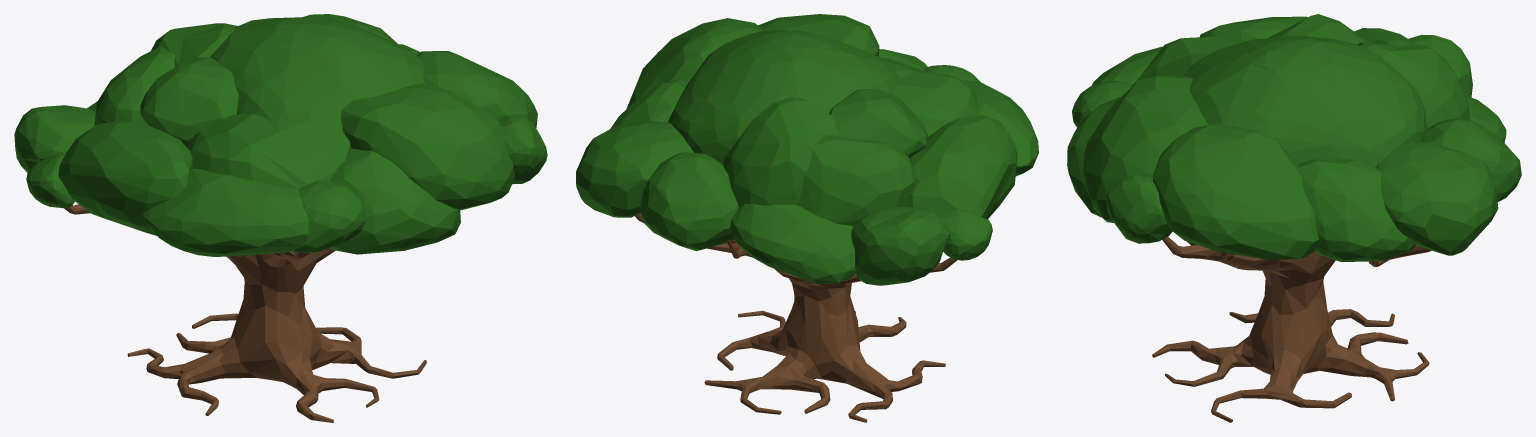
Rendered from WorldTree.fbx.
The picture shows the model from 3 angles, left to right: view 1: azimuth 30°, elevation 25°; view 2: azimuth 150°, elevation 25°; view 3: azimuth 270°, elevation 25°; orthographic projection. The views are drawn at different scales.
Visible parts, largest first — view 1: WorldTree; view 2: WorldTree; view 3: WorldTree.
Part boxes in pixels (x1,y1,x2,y2): WorldTree: [14, 14, 547, 422]; WorldTree: [576, 14, 1038, 422]; WorldTree: [1067, 14, 1521, 422].
Bounding box in the file's own units: 5686 × 5224 × 4273.
